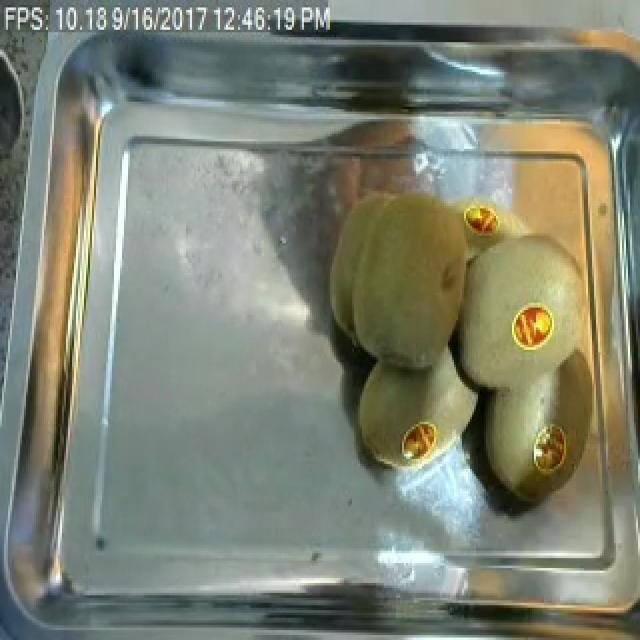Fruit: (314, 174, 500, 377), (346, 348, 488, 482), (504, 298, 564, 357)
